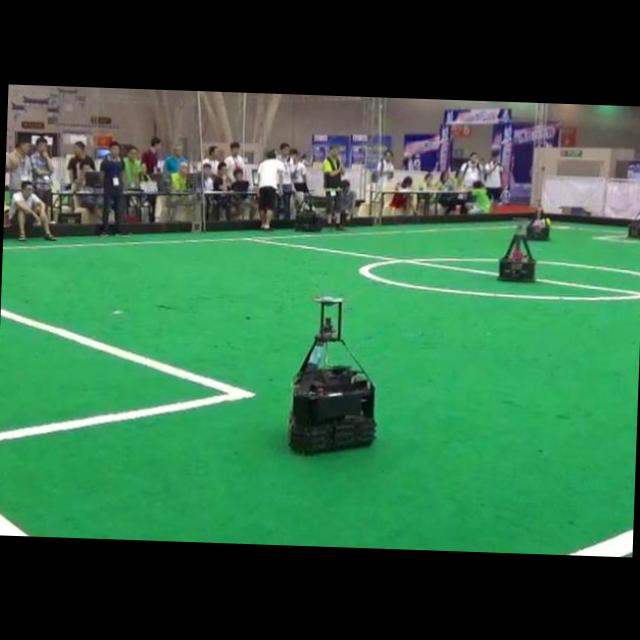robot: (289, 295, 374, 450), (498, 232, 535, 280), (294, 190, 323, 231), (526, 208, 551, 239)
